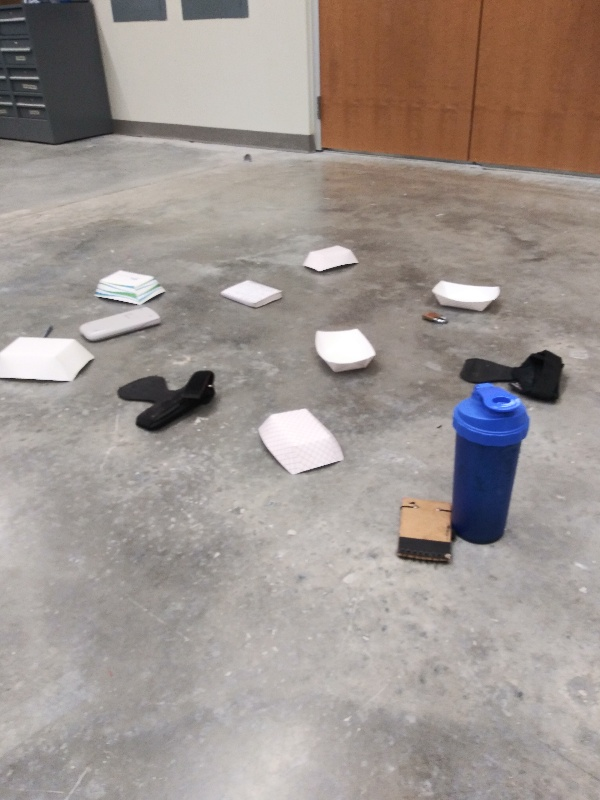plate: (255, 406, 348, 480), (1, 332, 96, 389), (308, 325, 380, 378), (424, 274, 506, 314), (90, 268, 171, 308), (301, 242, 365, 275)
